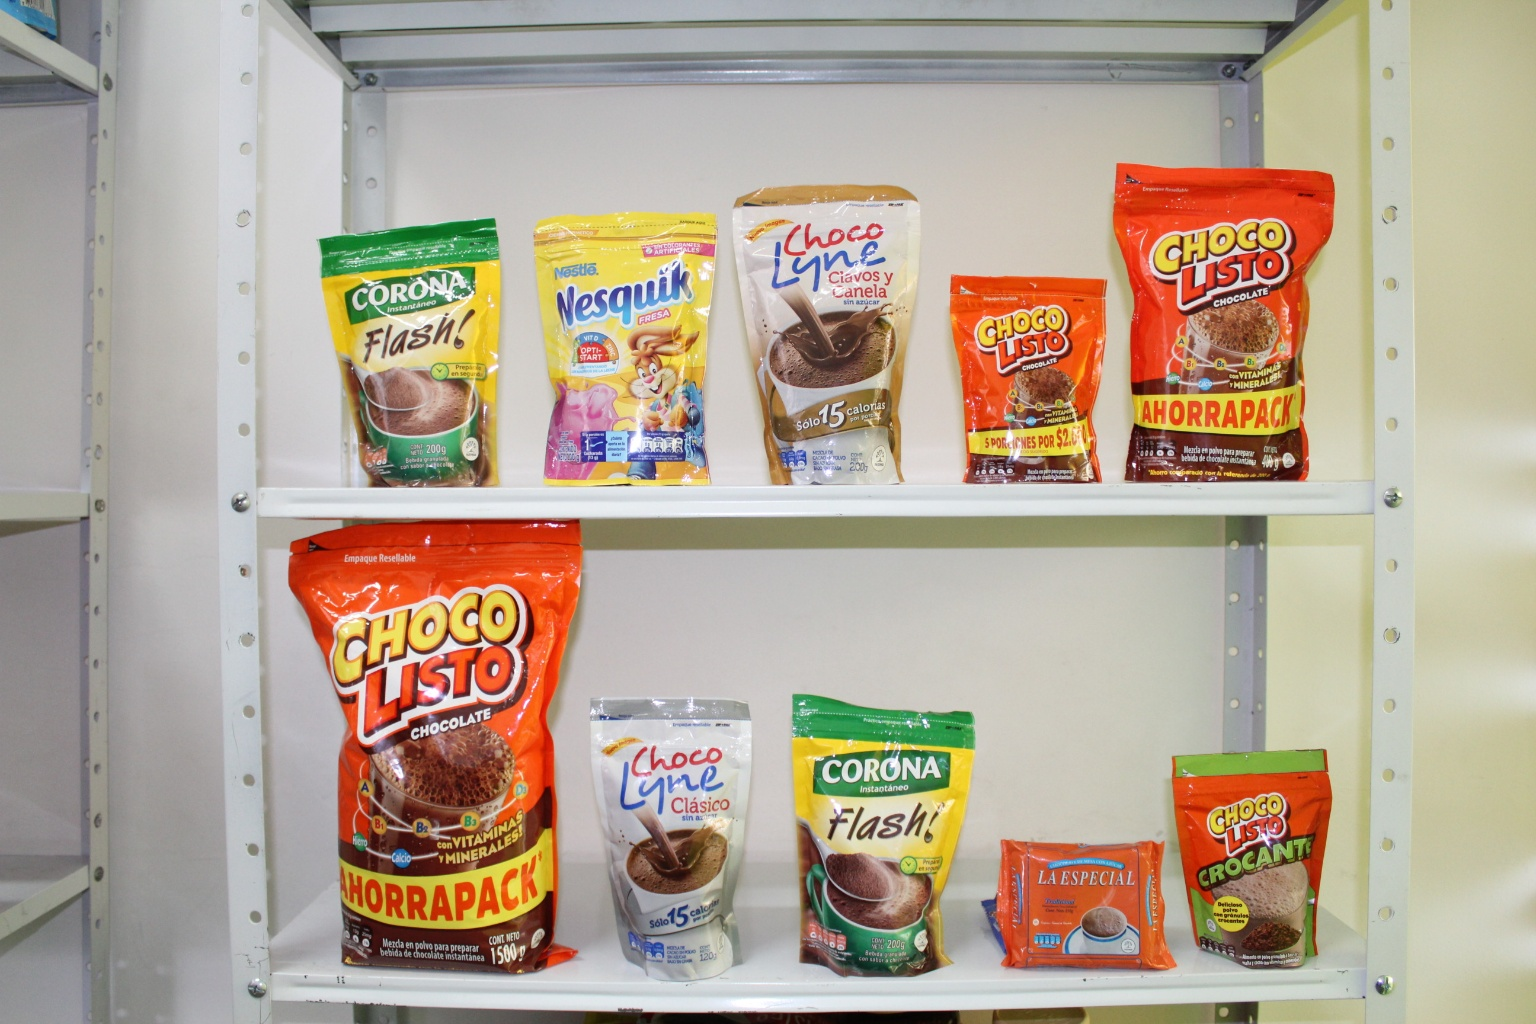COL0170102DYP10000: (1173, 745, 1344, 966)
COL0170103DYP1,500: (296, 511, 597, 984)
COL0170305DYP20000: (525, 205, 726, 485)
